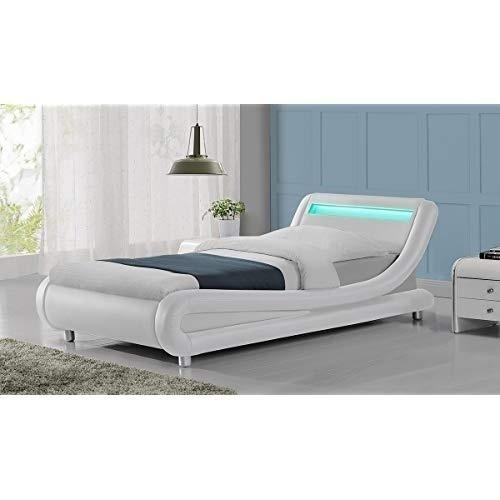bed: (38, 196, 439, 368)
light: (172, 93, 223, 188)
table: (449, 250, 500, 348)
